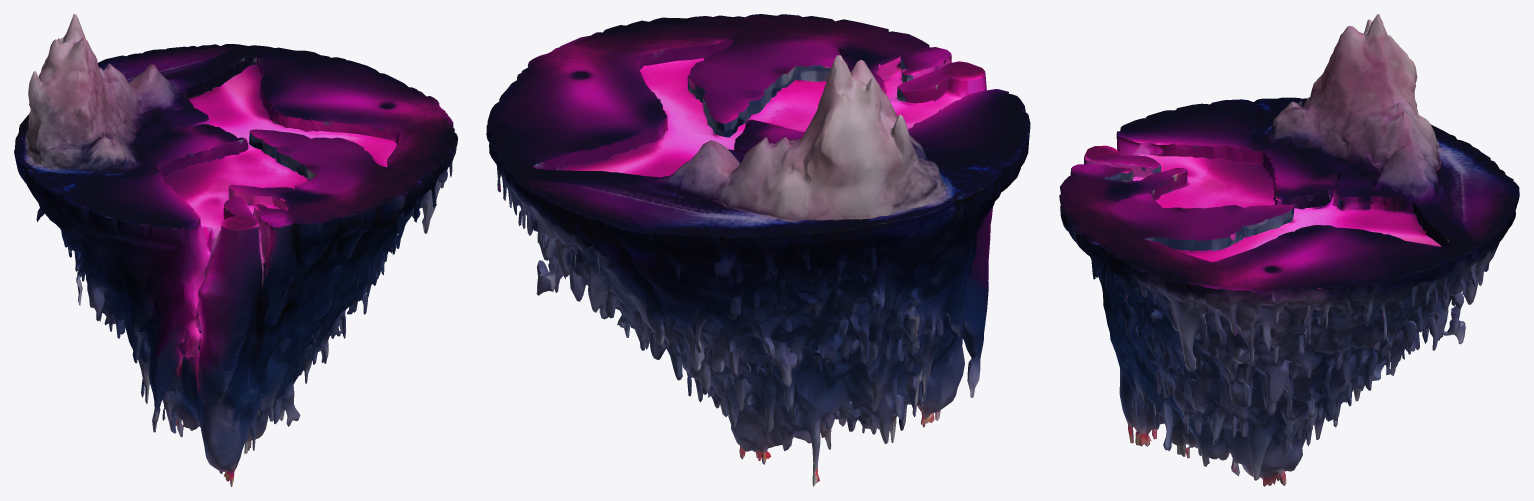
The model's file is shelf-break-4-generated-2026-05-17T20-44-19-726Z.high.glb.
3 views of the same model, side by side, from view 1: azimuth 30°, elevation 25°; view 2: azimuth 150°, elevation 25°; view 3: azimuth 270°, elevation 25° (orthographic). The views are drawn at different scales.
Visible parts, largest first — view 1: temp_mesh.ply; view 2: temp_mesh.ply; view 3: temp_mesh.ply.
Part boxes in pixels (<box>): temp_mesh.ply: <box>14,14,457,486</box>; temp_mesh.ply: <box>486,14,1030,486</box>; temp_mesh.ply: <box>1059,14,1519,486</box>.
Size of the model in its own units: 1.97 by 1.95 by 1.96.
1 material, 1 textured.
